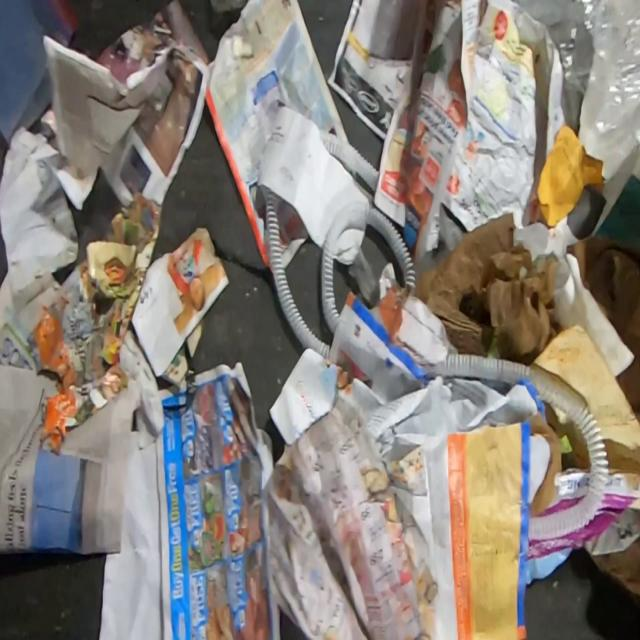cardboard: (529, 322, 640, 489), (566, 234, 640, 420), (525, 474, 640, 559), (587, 537, 640, 609), (544, 402, 588, 470)
rigid_plastic: (425, 351, 609, 541), (319, 199, 418, 336), (264, 187, 330, 360), (317, 126, 379, 193)
soft_plastic: (512, 0, 640, 156)
